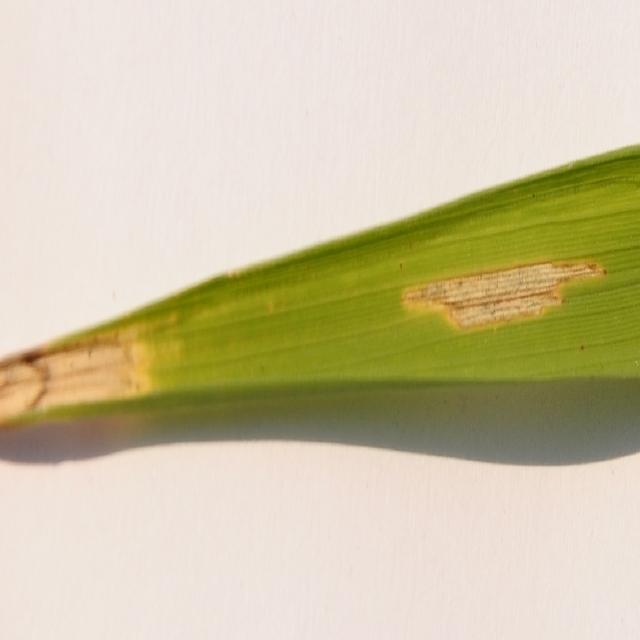leaf blight: (0, 312, 169, 437), (399, 246, 612, 336)
